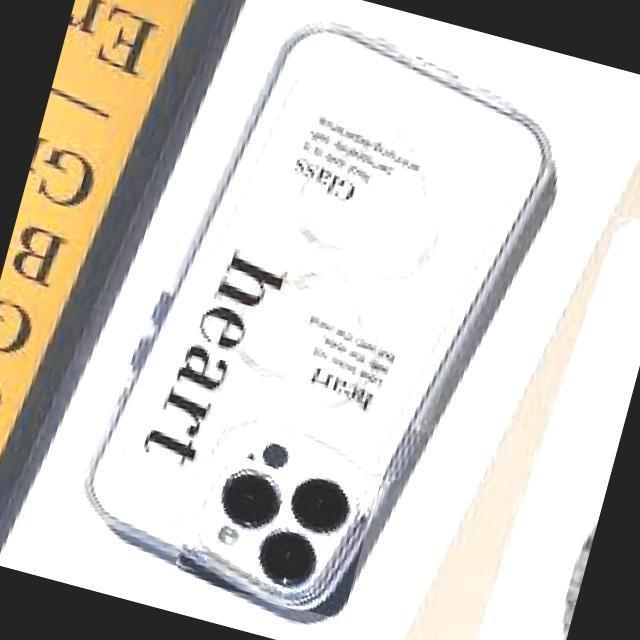lens: (217, 440, 356, 578)
phone: (81, 22, 578, 623)
